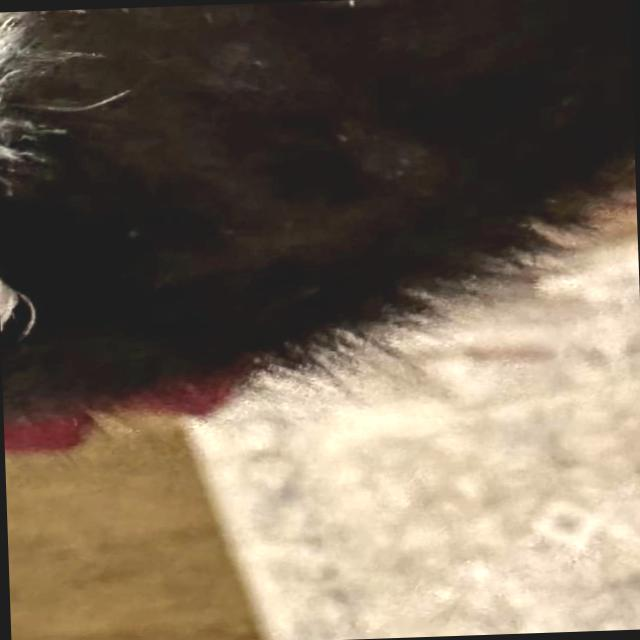fem: (239, 0, 520, 40)
